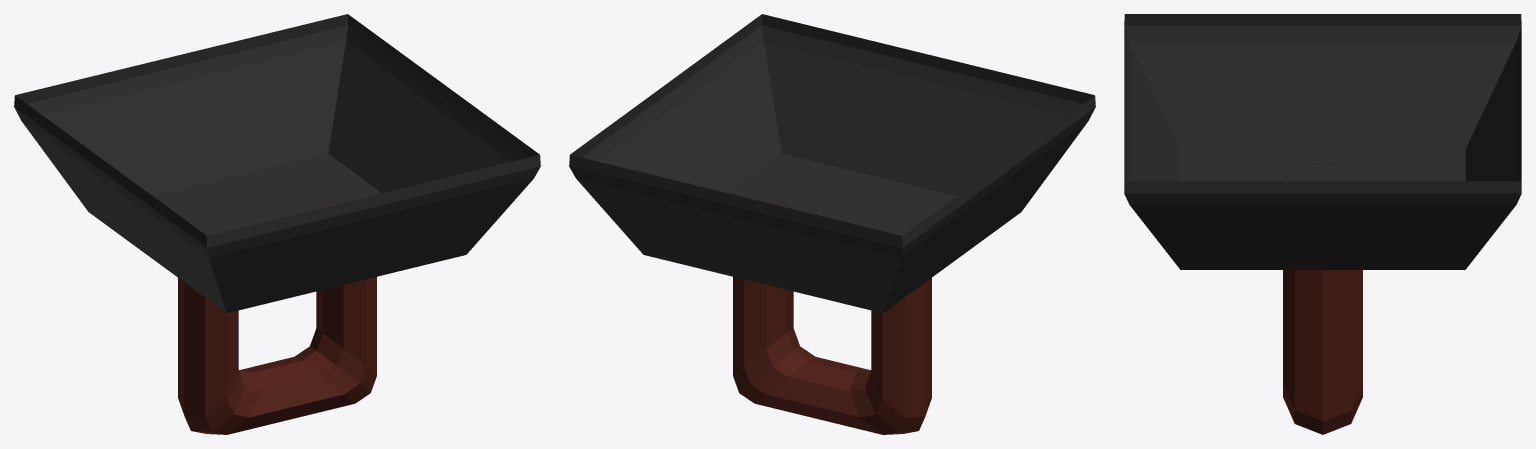
The model's file is ChainBase.fbx.
The picture shows the model from 3 angles, left to right: view 1: azimuth 30°, elevation 25°; view 2: azimuth 150°, elevation 25°; view 3: azimuth 270°, elevation 25°; orthographic projection. The views are drawn at different scales.
Visible parts, largest first — view 1: Base, Chain; view 2: Base, Chain; view 3: Base, Chain.
Part boxes in pixels (bbox=[...]): Base: bbox=[14, 14, 540, 313]; Chain: bbox=[178, 202, 376, 434]; Base: bbox=[569, 14, 1095, 313]; Chain: bbox=[733, 202, 931, 434]; Base: bbox=[1124, 14, 1521, 269]; Chain: bbox=[1283, 162, 1362, 434].
Bounding box in the file's own units: 279 × 233 × 279.
